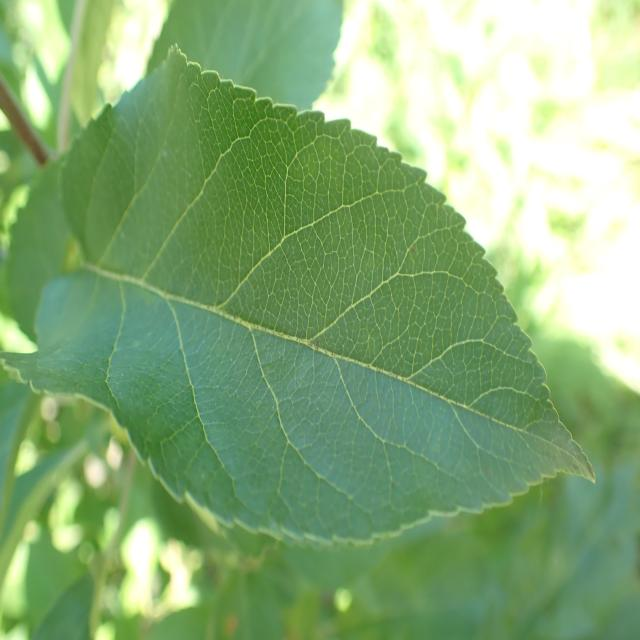healthy: (1, 43, 599, 551)
